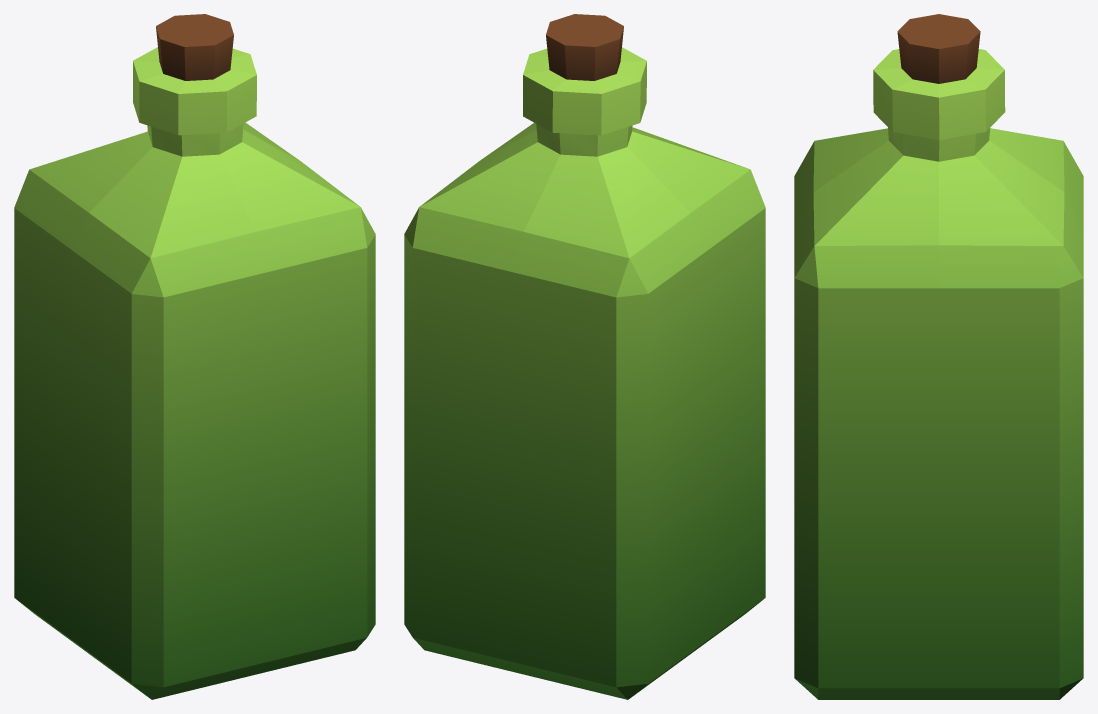
The model's file is potion_025_green.fbx.
3 renders of one model, left to right at view 1: azimuth 30°, elevation 25°; view 2: azimuth 150°, elevation 25°; view 3: azimuth 270°, elevation 25°, orthographic. The views are drawn at different scales.
Parts seen in each view (by area): view 1: potion_025_green; view 2: potion_025_green; view 3: potion_025_green.
Boxes of the visible parts, <box> form: potion_025_green: <box>14,14,375,699</box>; potion_025_green: <box>404,14,765,699</box>; potion_025_green: <box>794,14,1083,699</box>.
Bounding box in the file's own units: 0.087 × 0.2048 × 0.087.
